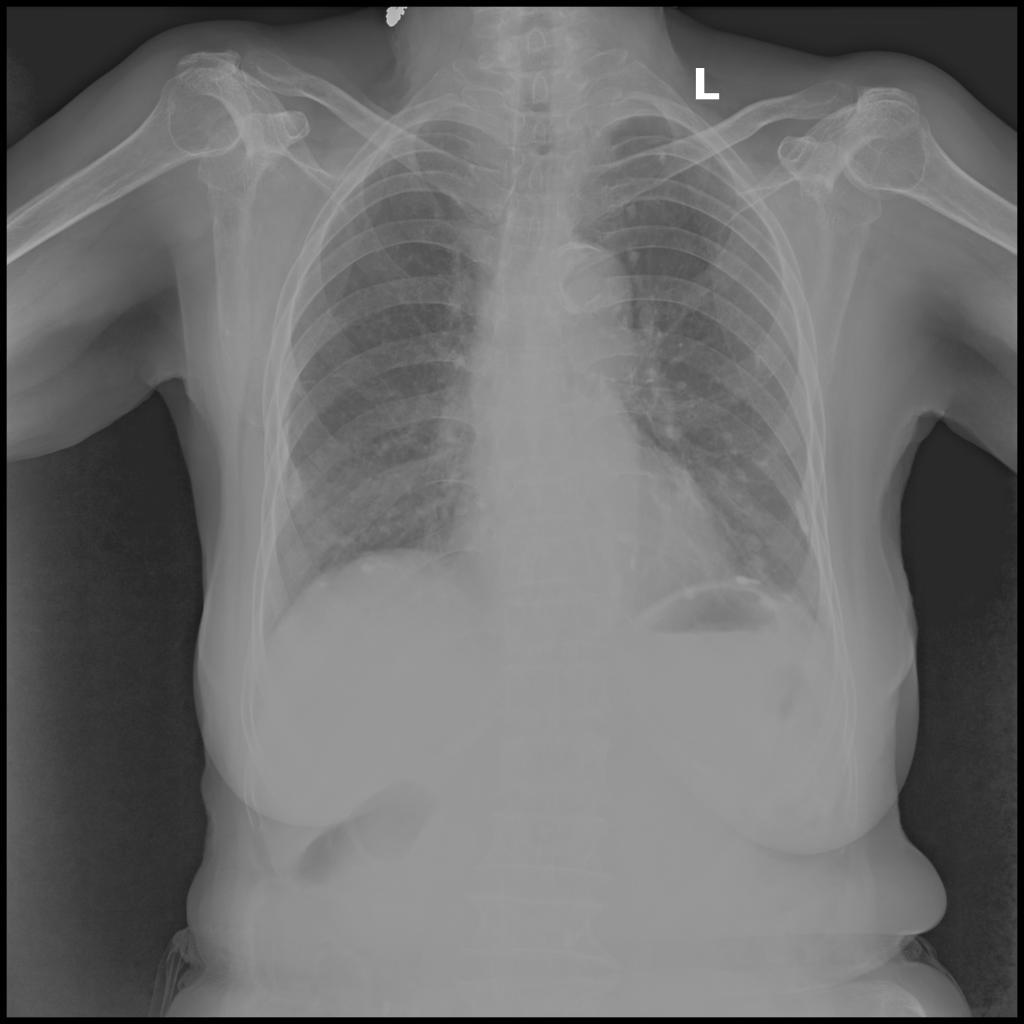Nodule: (291, 477, 311, 500), (743, 535, 762, 554), (747, 559, 767, 576), (665, 425, 685, 441), (627, 248, 646, 264), (361, 563, 381, 577), (629, 546, 640, 571), (722, 432, 737, 448), (683, 585, 697, 602), (477, 497, 491, 511), (629, 203, 638, 221), (783, 594, 796, 604), (455, 507, 468, 517), (658, 155, 670, 165), (679, 381, 689, 391), (441, 143, 445, 149)
